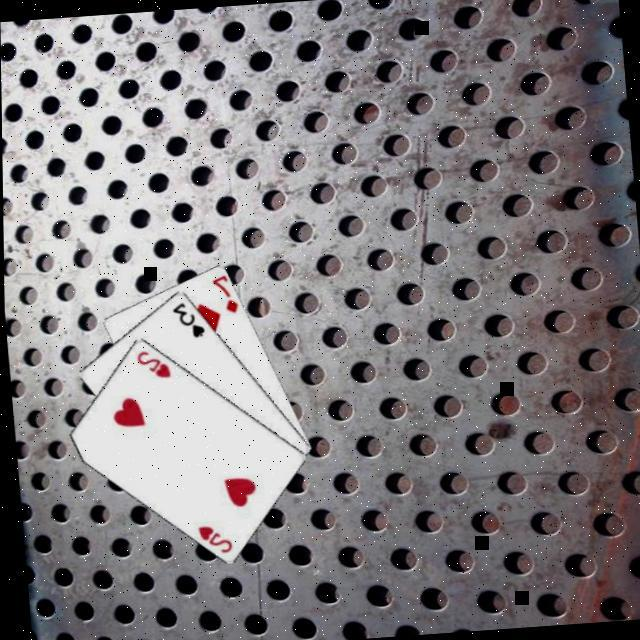2H: (190, 519, 231, 556), (129, 345, 169, 382)
3S: (165, 297, 205, 340)
7D: (205, 270, 238, 316)
